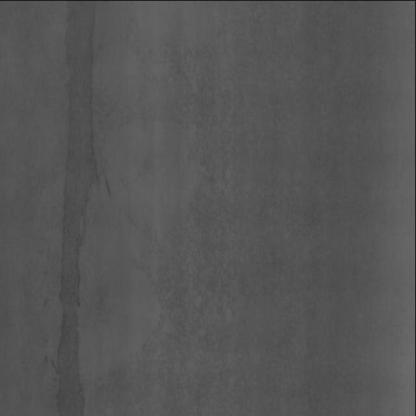water_spot: (52, 16, 117, 396)
